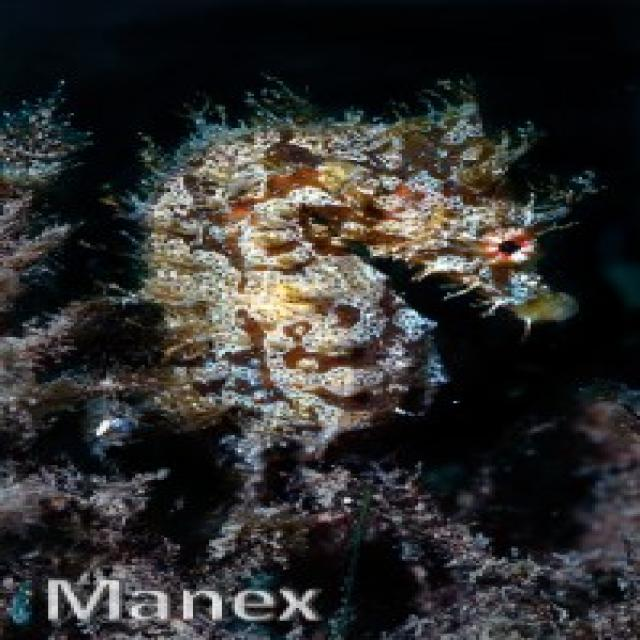Seahorse: (133, 86, 606, 486)
